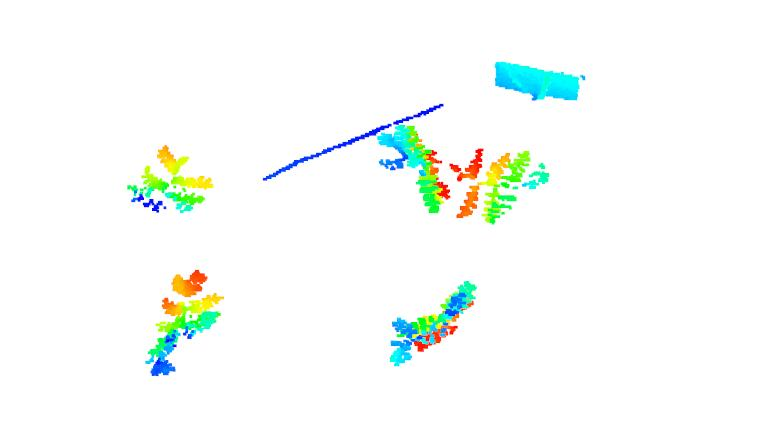chickpea: (141, 269, 224, 378), (448, 144, 550, 226), (389, 279, 476, 365), (378, 126, 452, 214), (127, 143, 215, 217)
